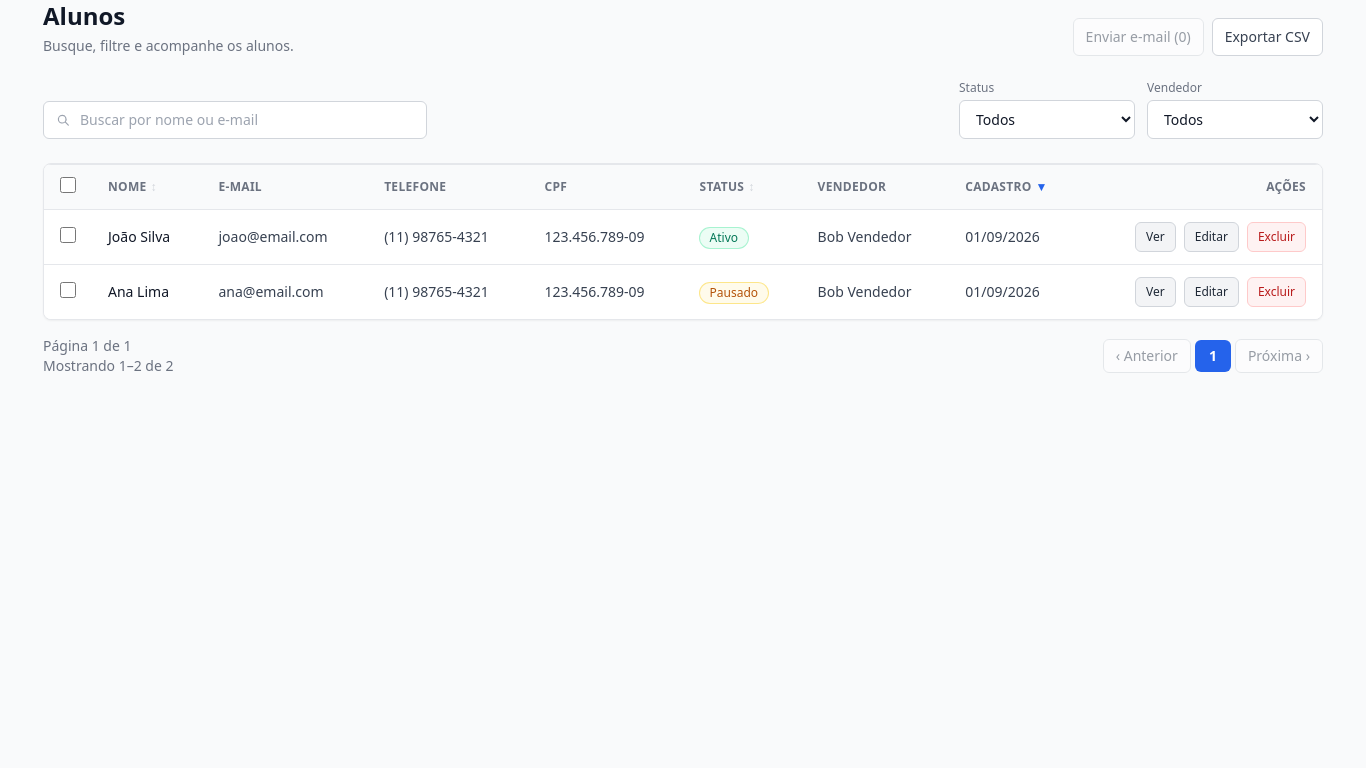
Test: página de alunos › RBAC cosmético › explica o 403 na exclusão
Click the button "Excluir" in the row of "Ana Lima".
click(1276, 292)  # box [1247,277,1306,307]
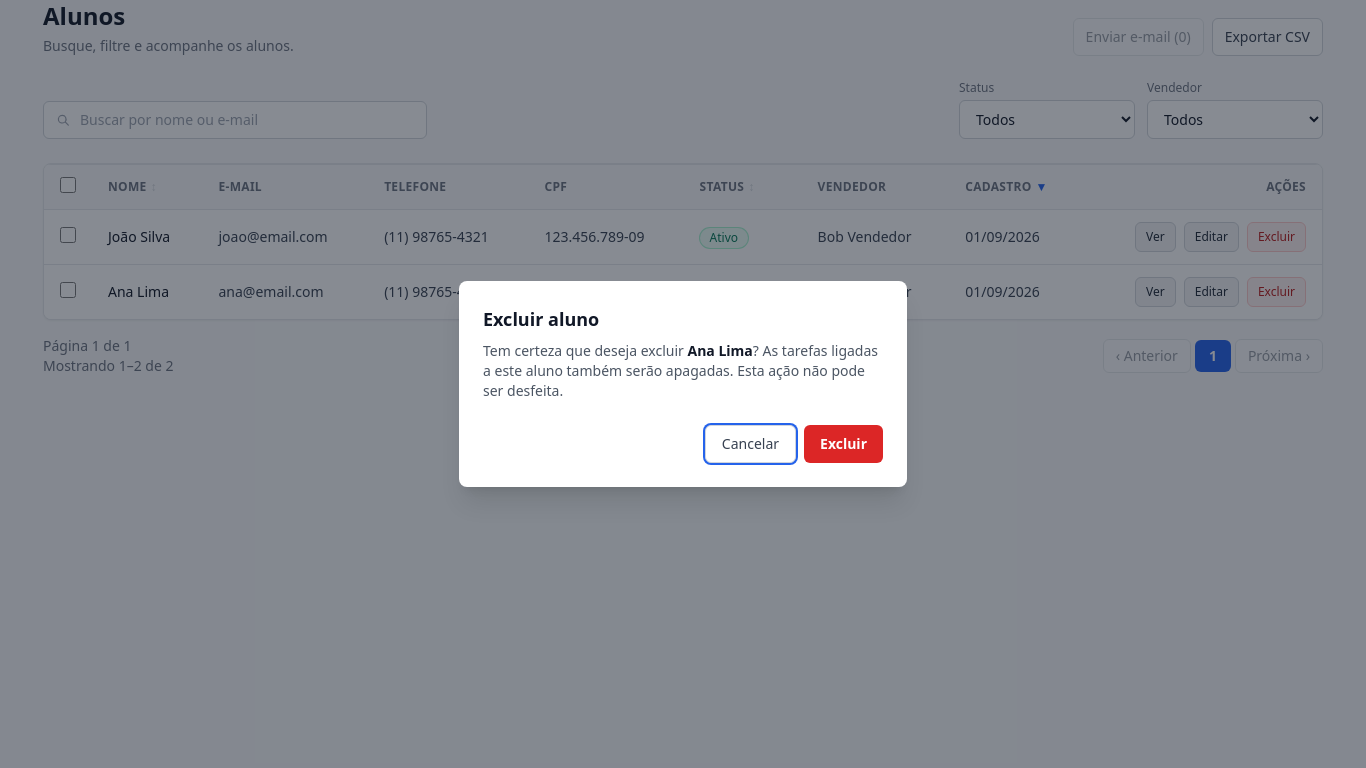
Click the button "Excluir".
click(844, 444)  # box [804,425,883,463]
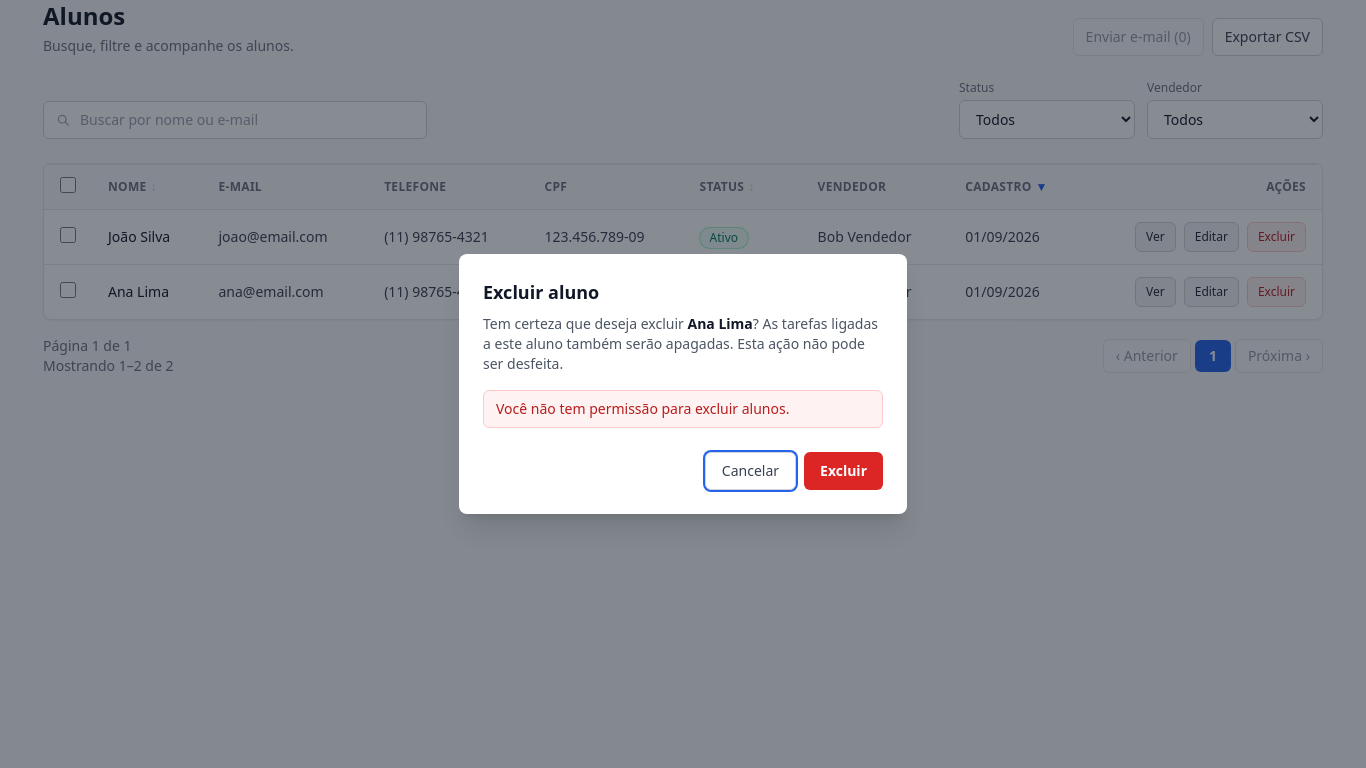
Result: the message shows "não tem permissão para excluir" at [496,399,789,418]
